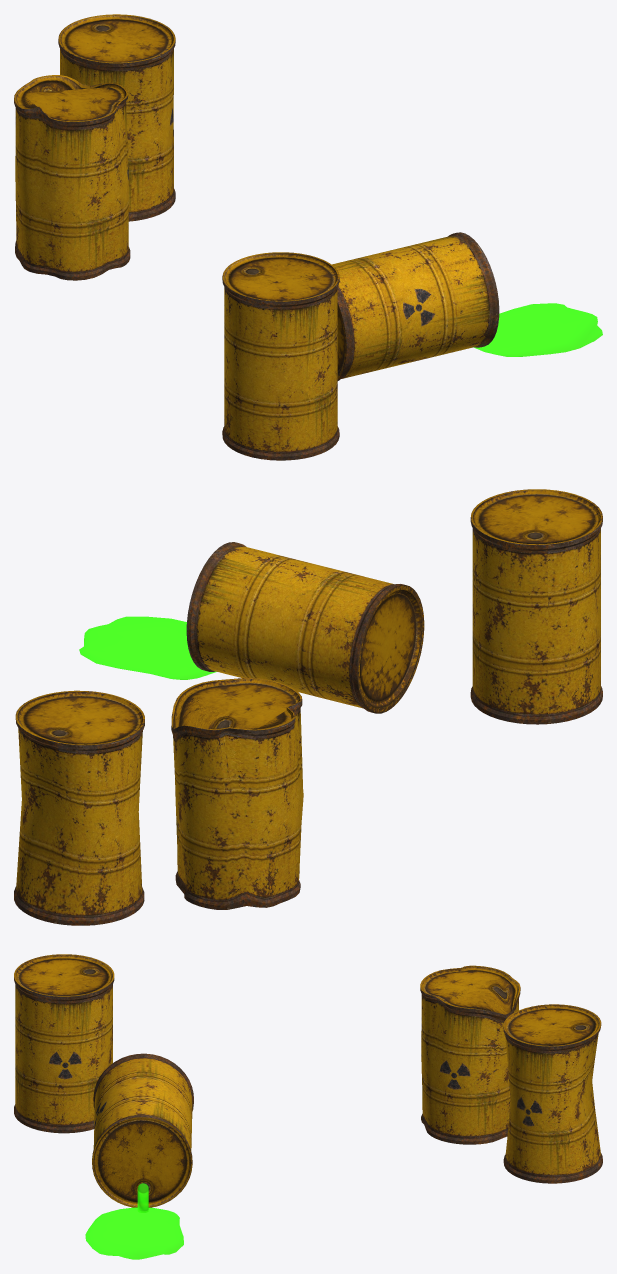
File: Barrel.fbx
3 renders of one model, top to bottom at view 1: azimuth 30°, elevation 25°; view 2: azimuth 150°, elevation 25°; view 3: azimuth 270°, elevation 25°, orthographic. The views are drawn at different scales.
Visible parts, largest first — view 1: SLOD0, HitBarrel1, FLOD0, HitBarrel2, ToxicFluidLOD0; view 2: SLOD0, FLOD0, HitBarrel1, HitBarrel2, ToxicFluidLOD0; view 3: SLOD0, HitBarrel2, HitBarrel1, FLOD0, ToxicFluidLOD0.
Boxes of the visible parts, x1=… form: SLOD0: x1=222, y1=252, x2=339, y2=460; HitBarrel1: x1=14, y1=75, x2=130, y2=280; FLOD0: x1=332, y1=232, x2=499, y2=380; HitBarrel2: x1=58, y1=14, x2=175, y2=221; ToxicFluidLOD0: x1=473, y1=303, x2=602, y2=356; SLOD0: x1=470, y1=489, x2=602, y2=724; FLOD0: x1=186, y1=542, x2=424, y2=713; HitBarrel1: x1=171, y1=678, x2=303, y2=909; HitBarrel2: x1=14, y1=690, x2=144, y2=925; ToxicFluidLOD0: x1=79, y1=616, x2=216, y2=679; SLOD0: x1=14, y1=954, x2=114, y2=1133; HitBarrel2: x1=503, y1=1004, x2=602, y2=1183; HitBarrel1: x1=420, y1=965, x2=520, y2=1144; FLOD0: x1=92, y1=1053, x2=193, y2=1207; ToxicFluidLOD0: x1=85, y1=1183, x2=183, y2=1259.
Size of what is drawn, in the model's own units: 827 by 321 by 1206.
